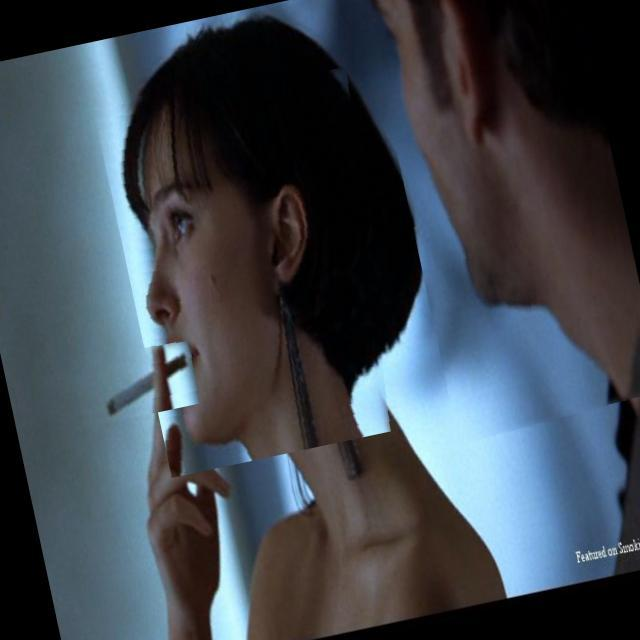cigarette: (70, 334, 202, 428)
